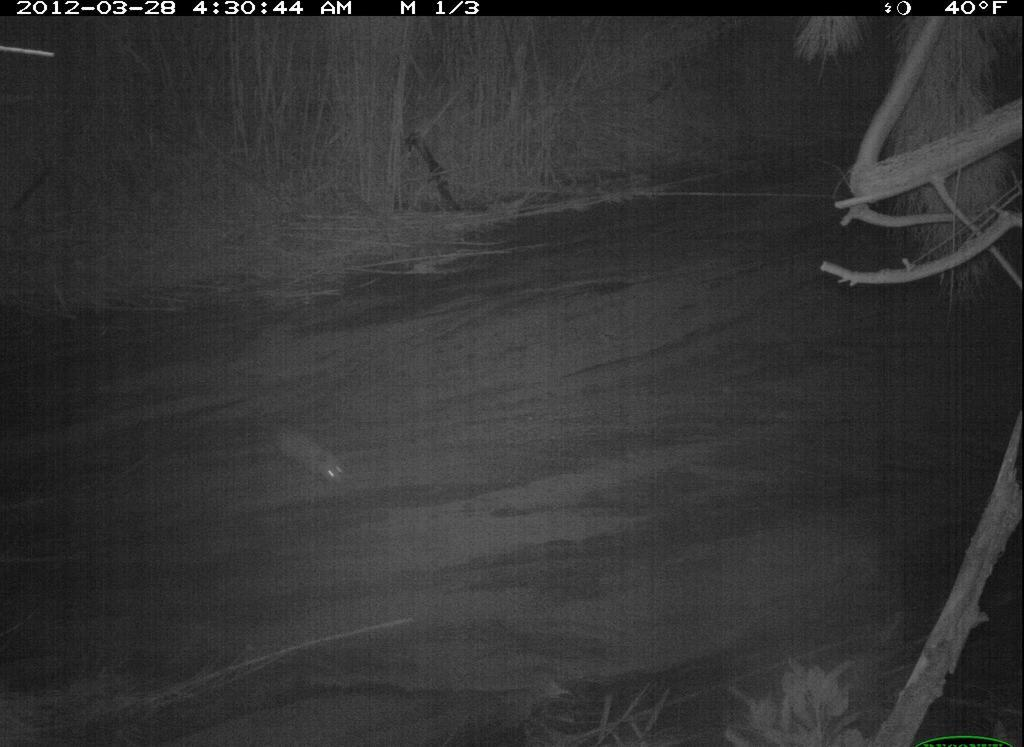opossum: (236, 392, 358, 495)
